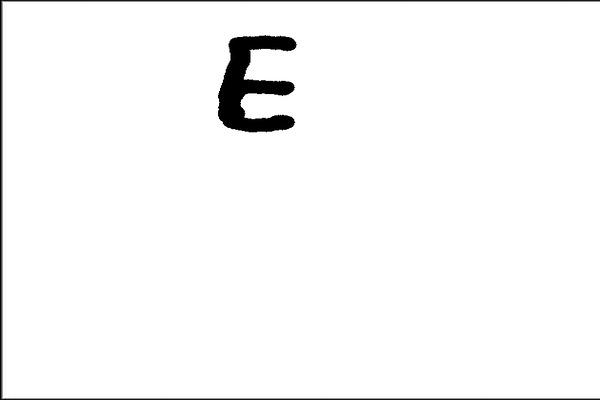E: (213, 31, 305, 135)
